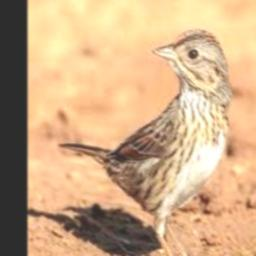Sparrow: (58, 29, 231, 256)
